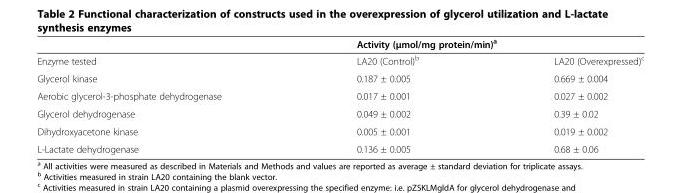table: (36, 36, 643, 154)
table column: (36, 36, 288, 154), (288, 36, 485, 154), (485, 36, 643, 154)
table column header: (36, 36, 643, 69)
table row: (36, 51, 643, 69), (36, 86, 643, 104), (36, 104, 643, 122), (36, 69, 643, 86), (36, 122, 643, 139), (36, 36, 643, 51), (36, 139, 643, 154)
table spanning cell: (36, 36, 288, 69), (288, 36, 643, 51)
